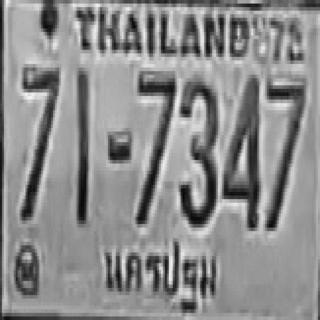N01: (75, 66, 88, 222)
N03: (177, 75, 218, 228)
N04: (222, 71, 261, 230)
N07: (135, 69, 175, 222), (20, 64, 59, 217), (265, 76, 304, 226)
P28: (96, 232, 224, 320)
